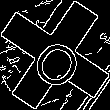O_NE: (22, 22, 88, 88)
